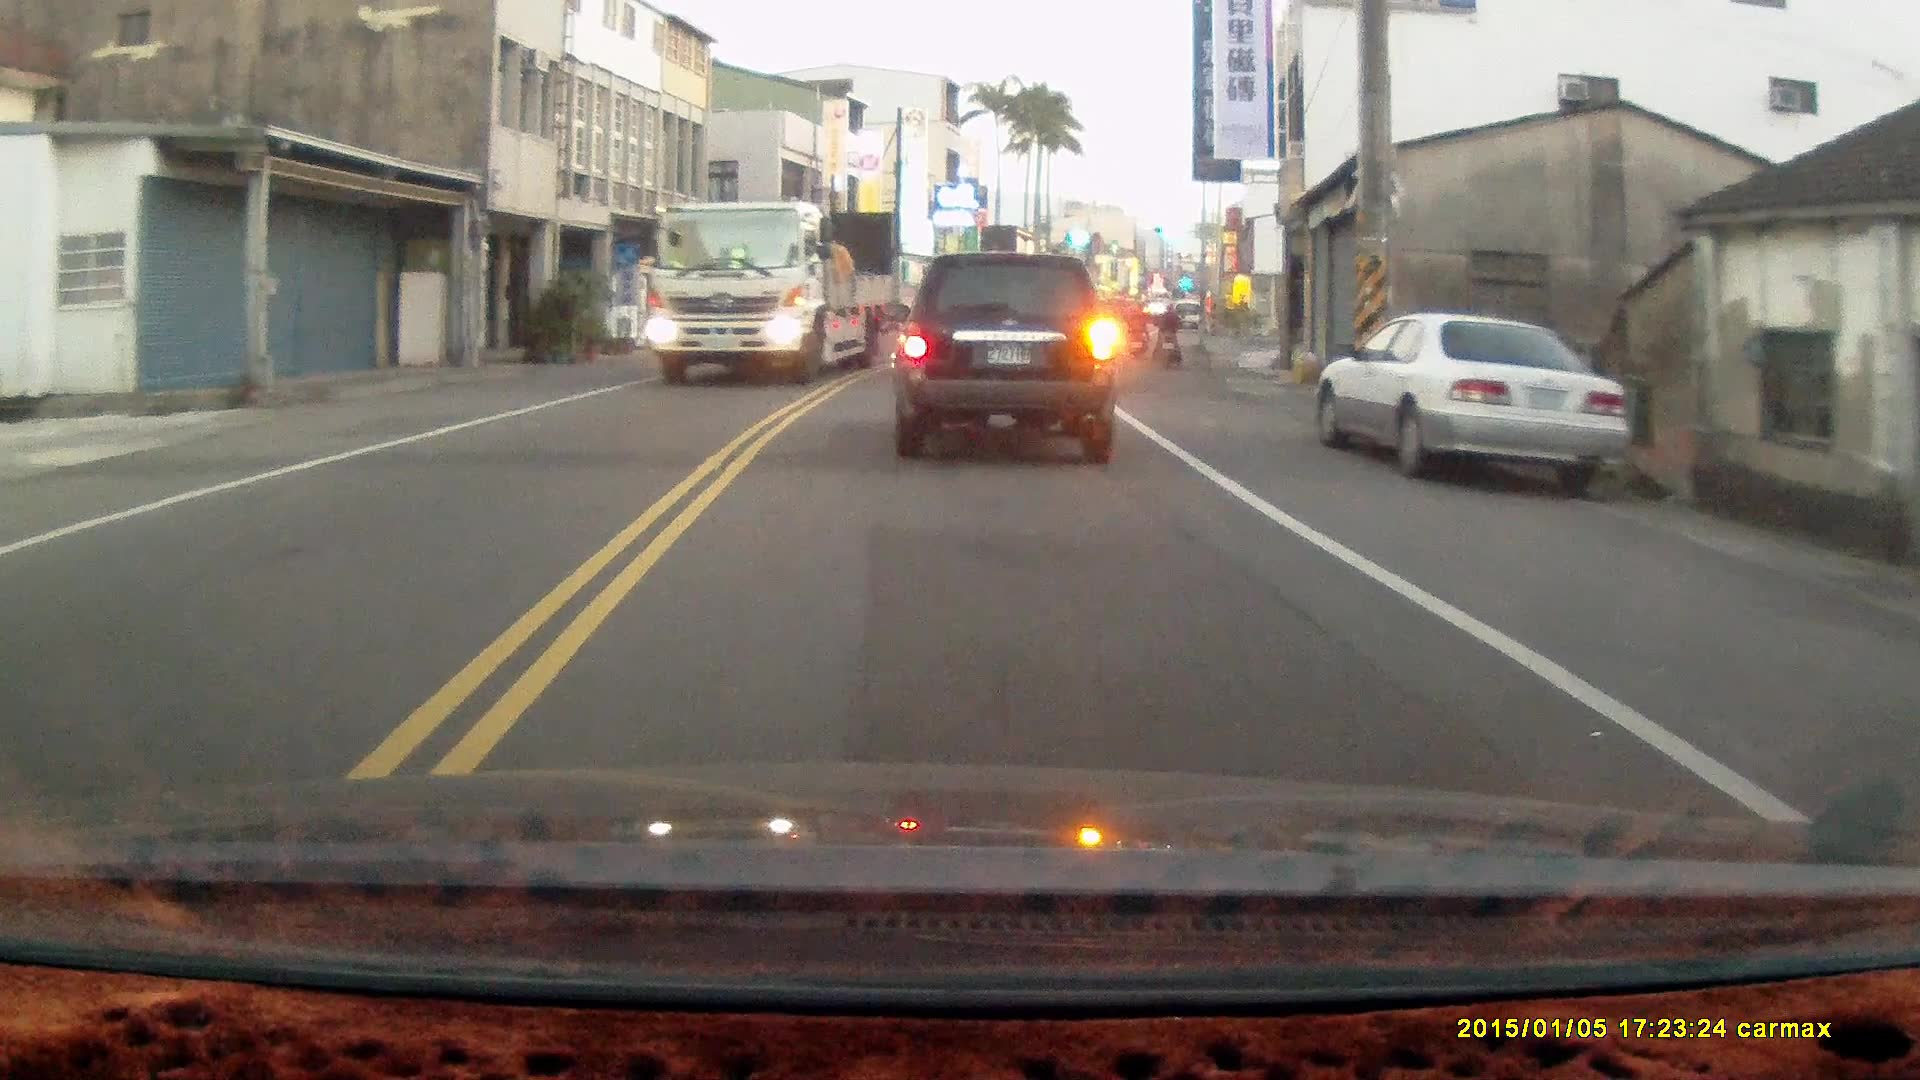rider: (1152, 296, 1183, 373), (1123, 296, 1149, 359)
vehicle: (1319, 313, 1629, 488), (892, 246, 1121, 458), (644, 199, 902, 386)
